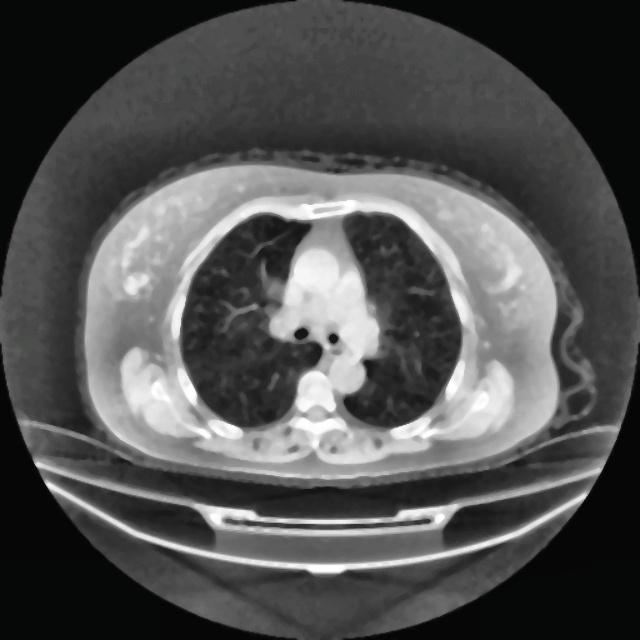covid: (78, 150, 563, 486)
